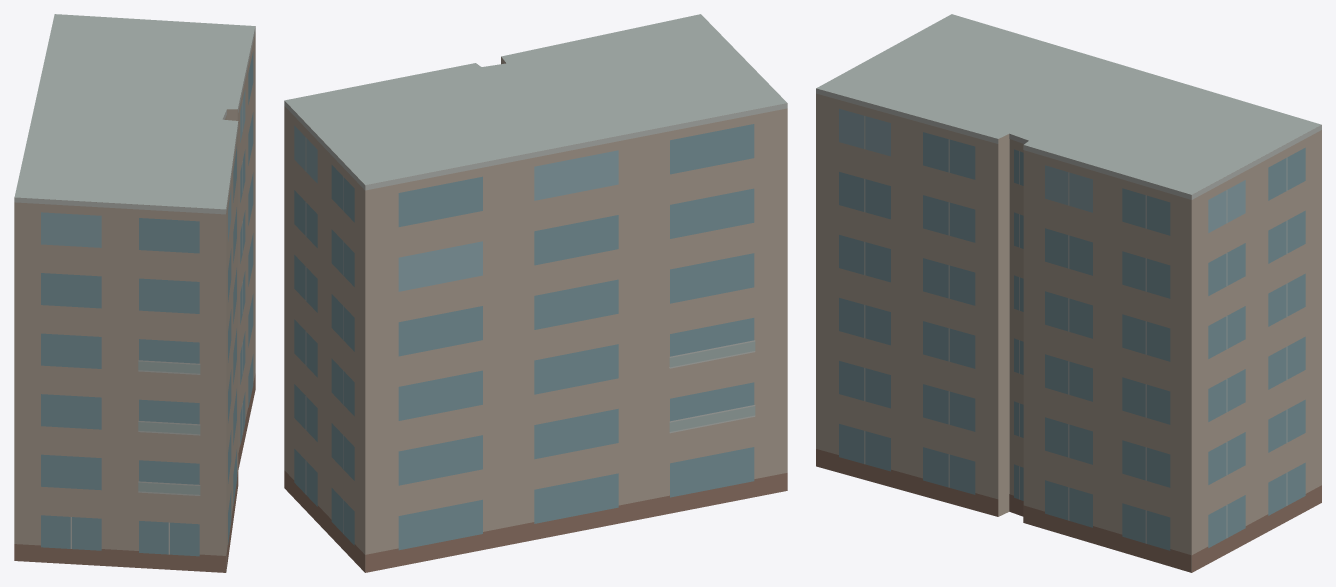
Rendered from survey-upis-32671257.glb.
3 renders of one model, left to right at view 1: azimuth 30°, elevation 25°; view 2: azimuth 150°, elevation 25°; view 3: azimuth 270°, elevation 25°, orthographic. The views are drawn at different scales.
Visible parts, largest first — view 1: survey-upis-32671257.tmp; view 2: survey-upis-32671257.tmp; view 3: survey-upis-32671257.tmp.
Boxes of the visible parts, <box> form: survey-upis-32671257.tmp: <box>14,14,255,572</box>; survey-upis-32671257.tmp: <box>284,14,787,572</box>; survey-upis-32671257.tmp: <box>816,14,1321,572</box>.
Bounding box in the file's own units: 18.27 × 17.8 × 21.59.
